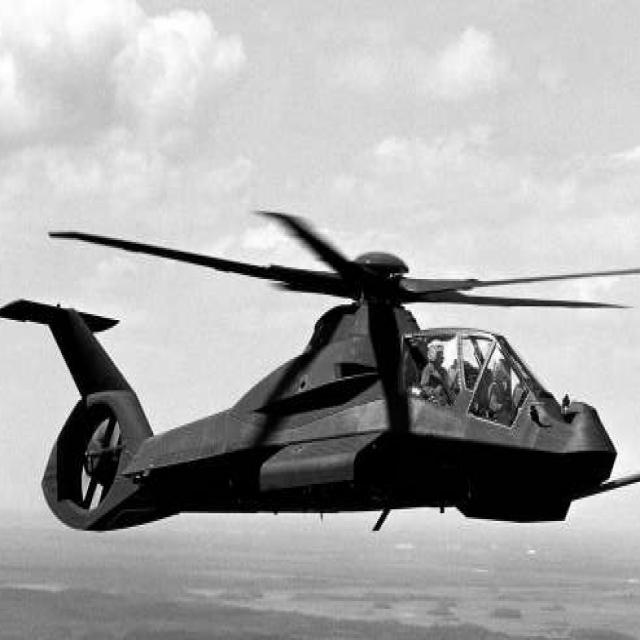helicopter: (1, 194, 640, 542)
